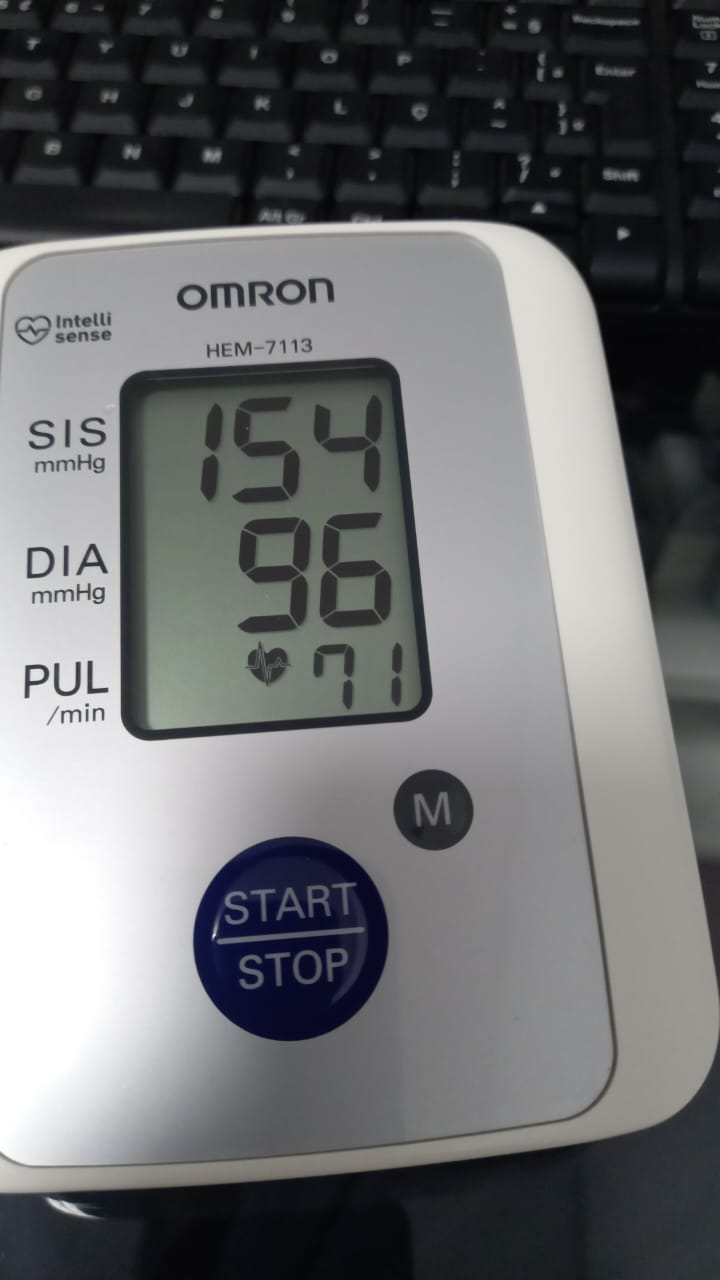display: (114, 357, 437, 744)
